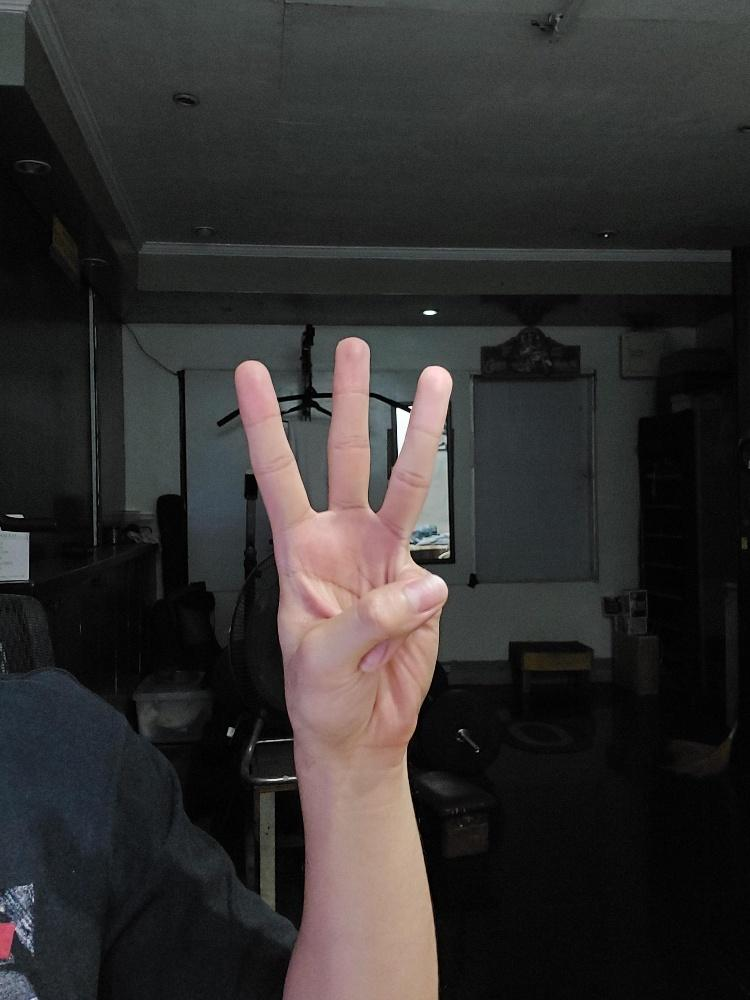w: (232, 335, 453, 747)
